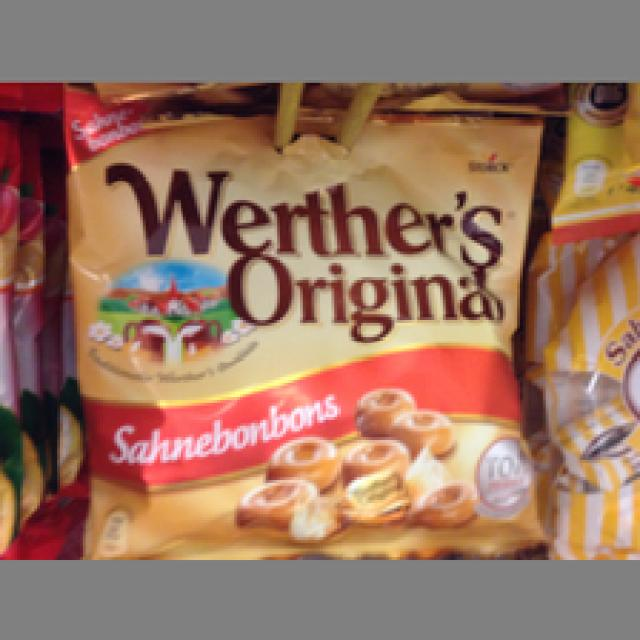groceries: (66, 83, 551, 551)
